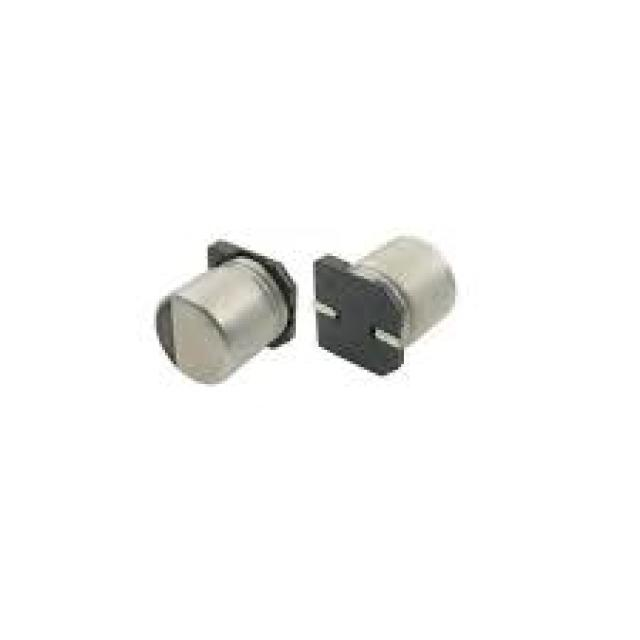Capacitor: (312, 230, 460, 379), (143, 252, 296, 384)
